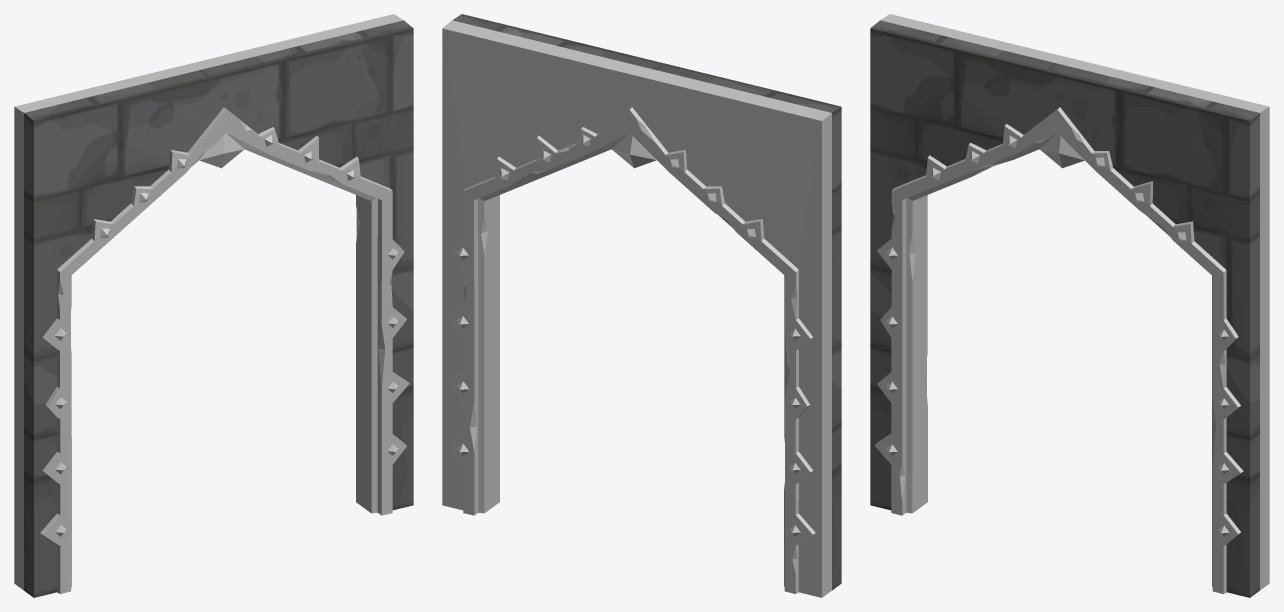
Rendered from SM_Bld_Wall_Door_Double_01.fbx.
3 renders of one model, left to right at view 1: azimuth 30°, elevation 25°; view 2: azimuth 150°, elevation 25°; view 3: azimuth 330°, elevation 25°, orthographic.
Visible parts, largest first — view 1: SM_Bld_Wall_Door_Double_01; view 2: SM_Bld_Wall_Door_Double_01; view 3: SM_Bld_Wall_Door_Double_01.
Boxes of the visible parts, left/top/right/bottom form: SM_Bld_Wall_Door_Double_01: left=14, top=14, right=413, bottom=597; SM_Bld_Wall_Door_Double_01: left=442, top=14, right=841, bottom=597; SM_Bld_Wall_Door_Double_01: left=870, top=14, right=1269, bottom=597.
Size of the model in its own units: 250 by 301 by 35.17.
